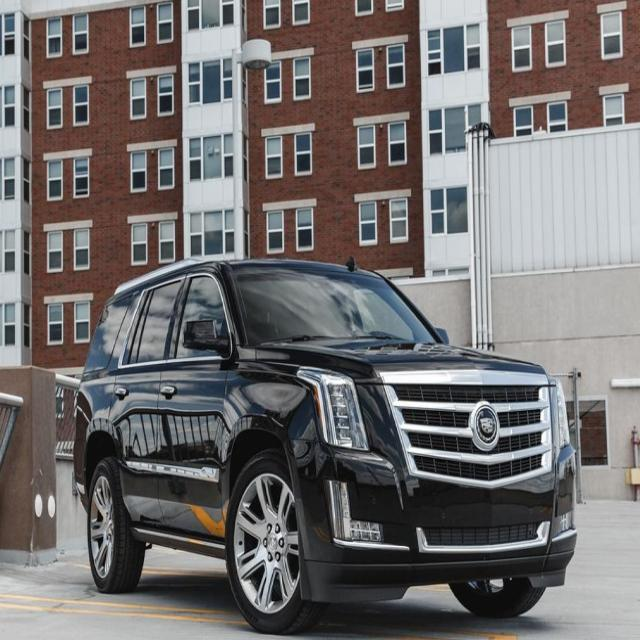door: (118, 274, 186, 524)
front_bumper: (287, 434, 588, 608)
front_glass: (228, 262, 440, 346)
front_left_side_light: (549, 373, 571, 469)
front_left_side_mirror: (435, 326, 450, 346)
front_right_side_door: (156, 262, 231, 541)
front_right_side_light: (295, 364, 371, 453)
front_right_side_mirror: (182, 316, 230, 358)
wheel: (228, 455, 318, 635), (87, 457, 141, 595), (455, 580, 547, 624)
